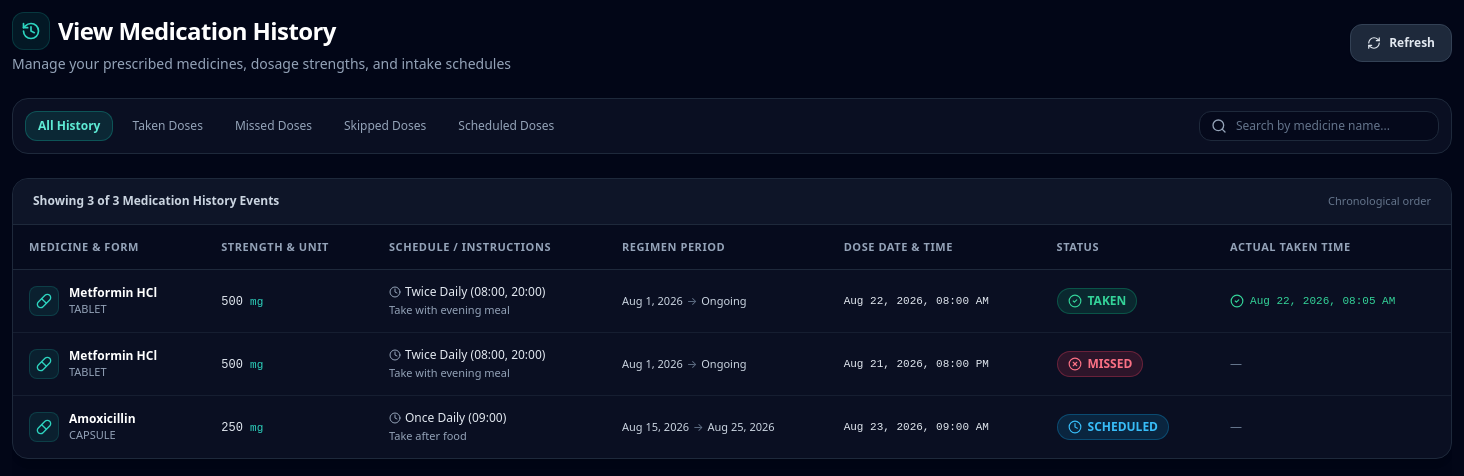
MedicationHistory Component - Real Data Adherence Log › renders real database medication history events with status badges and timestamps
expect the text "Metformin HCl" in the row of "Aug 22, 2026, 08:00 AM" is shown: met, box [69,284,157,301]
expect the text "Amoxicillin" is shown: met, box [69,411,136,427]
# Test filter tabs
Click the button "Taken Doses": [168, 126] box [119,111,216,141]
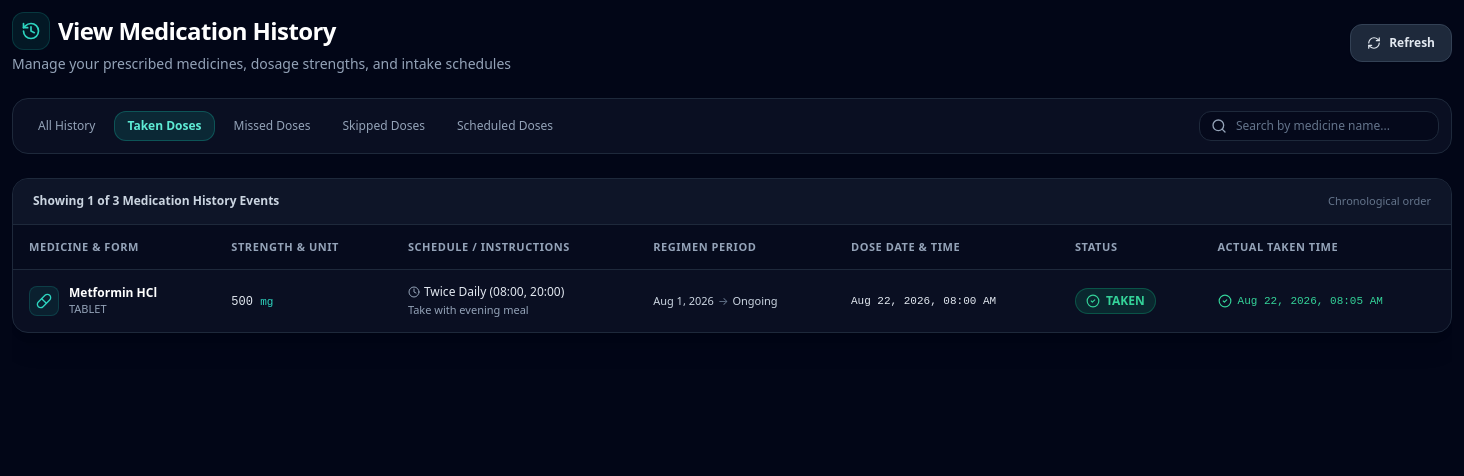
expect the text "Metformin HCl" is shown: met, box [69,285,157,301]
expect the text "Amoxicillin" is gone: met
# Test search filter
Click the button "All History": [67, 126] box [25,111,108,141]
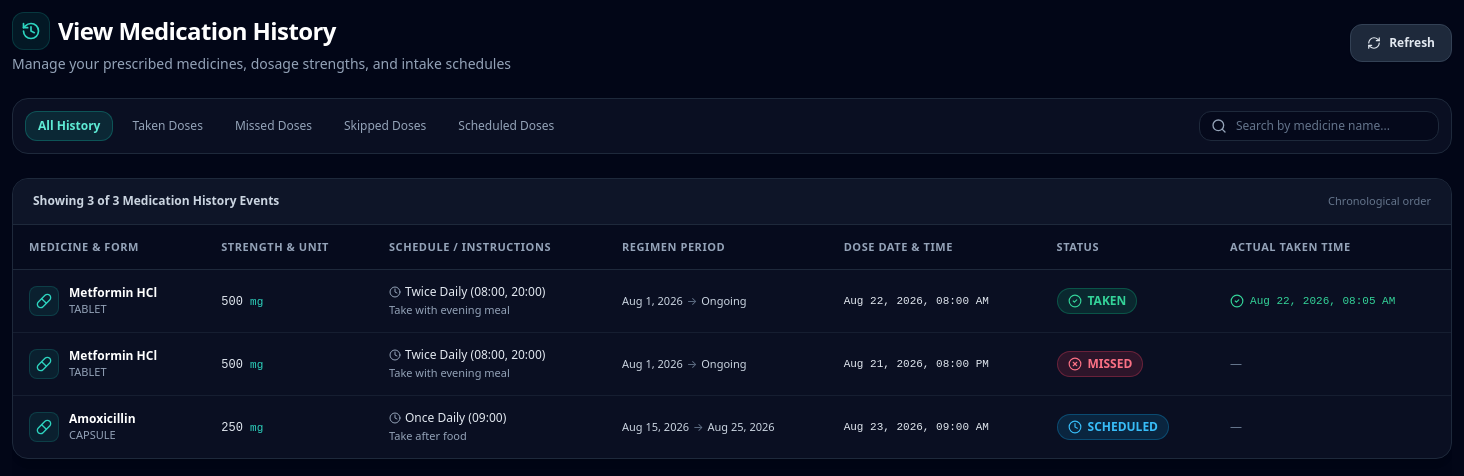
In the field with placeholder "Search by medicine name...": [1319, 126] box [1199,111,1439,141], type "Amoxicillin"
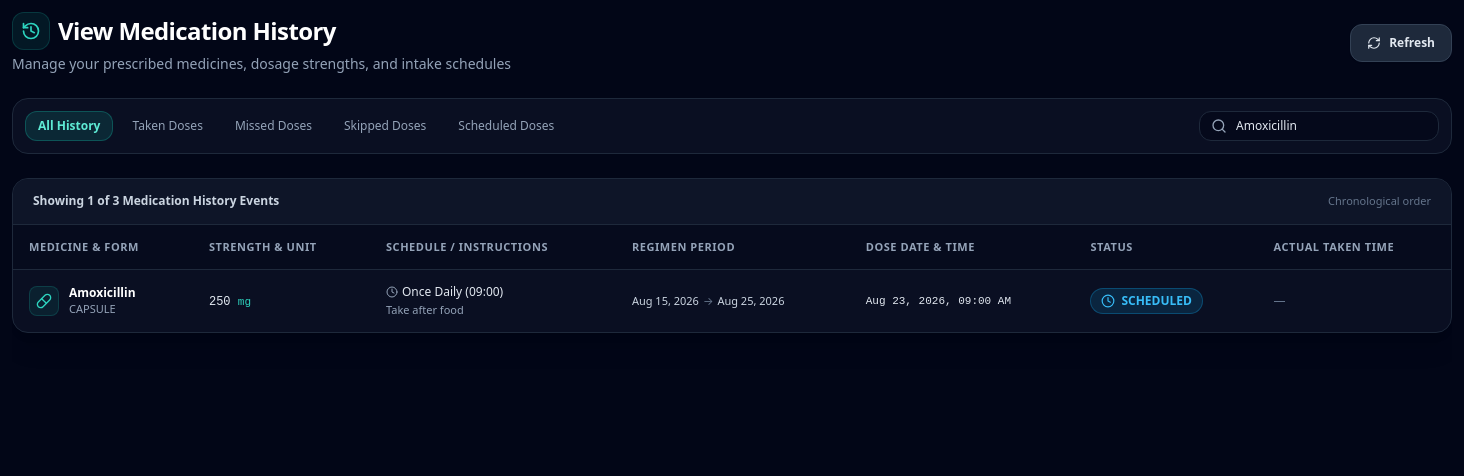
expect the text "Amoxicillin" is shown: met, box [69,285,136,301]
expect the text "Metformin HCl" is gone: met
